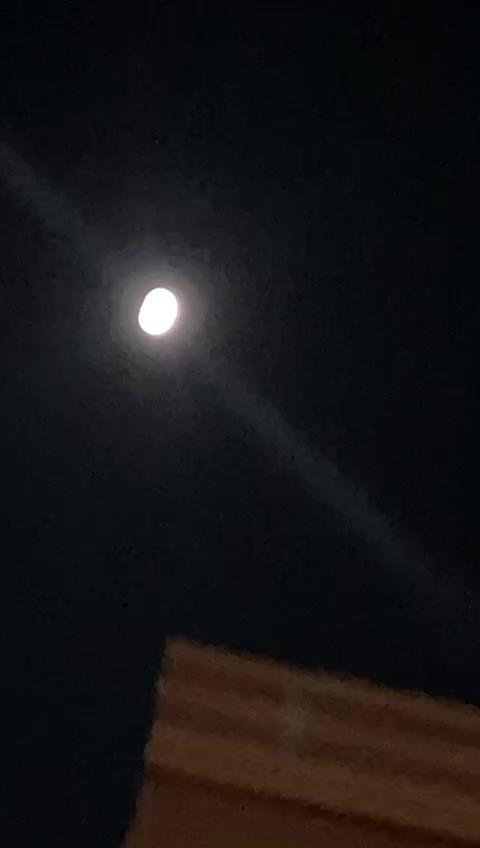moon: (128, 280, 196, 349)
